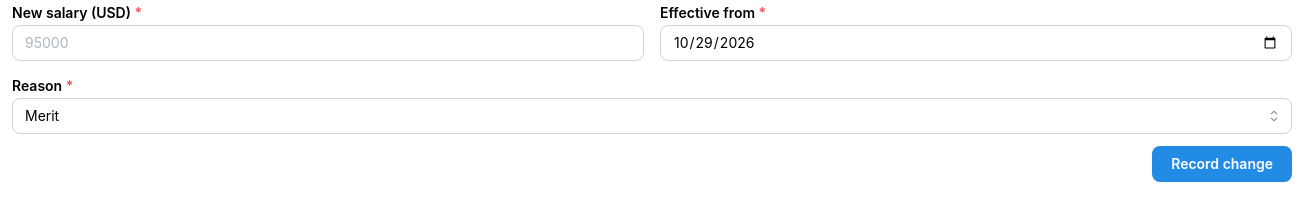
Test case: SalaryForm › amount parsing › rejects an amount that is not a number
Step 1. Type "lots" into the field labelled "New salary (USD) *" → (328, 43), box [12,25,644,61]
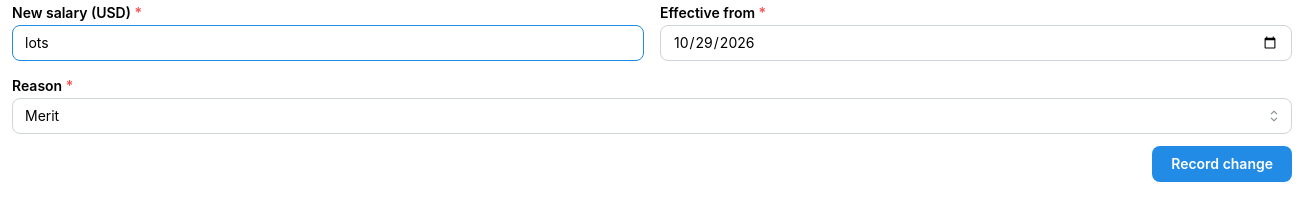
Step 2. Click the button "Record change" → (1222, 164), box [1152,146,1292,182]
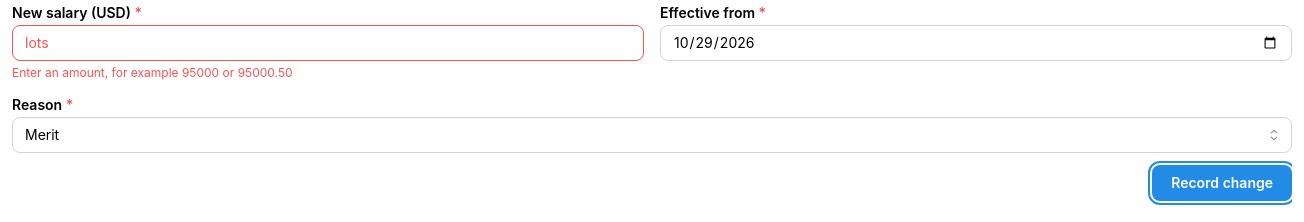
Expected: the text "Enter an amount, for example 95000 or 95000.50" is shown, [12,65,293,80]
